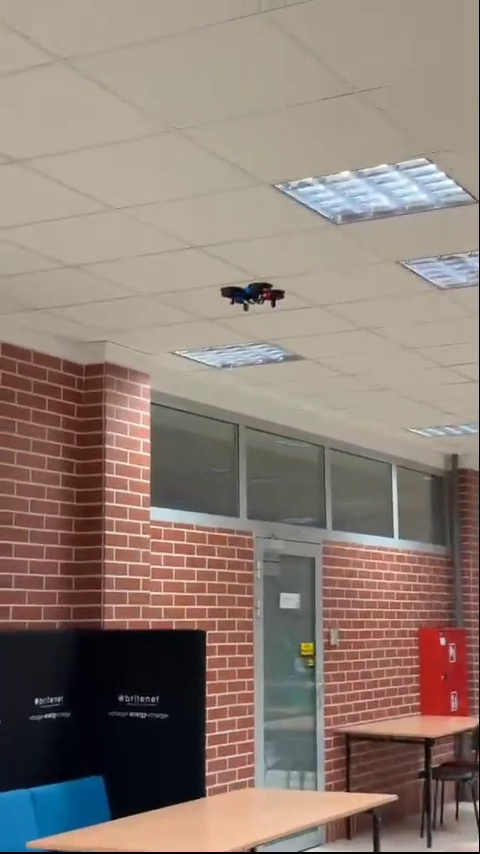drone: (219, 279, 288, 310)
